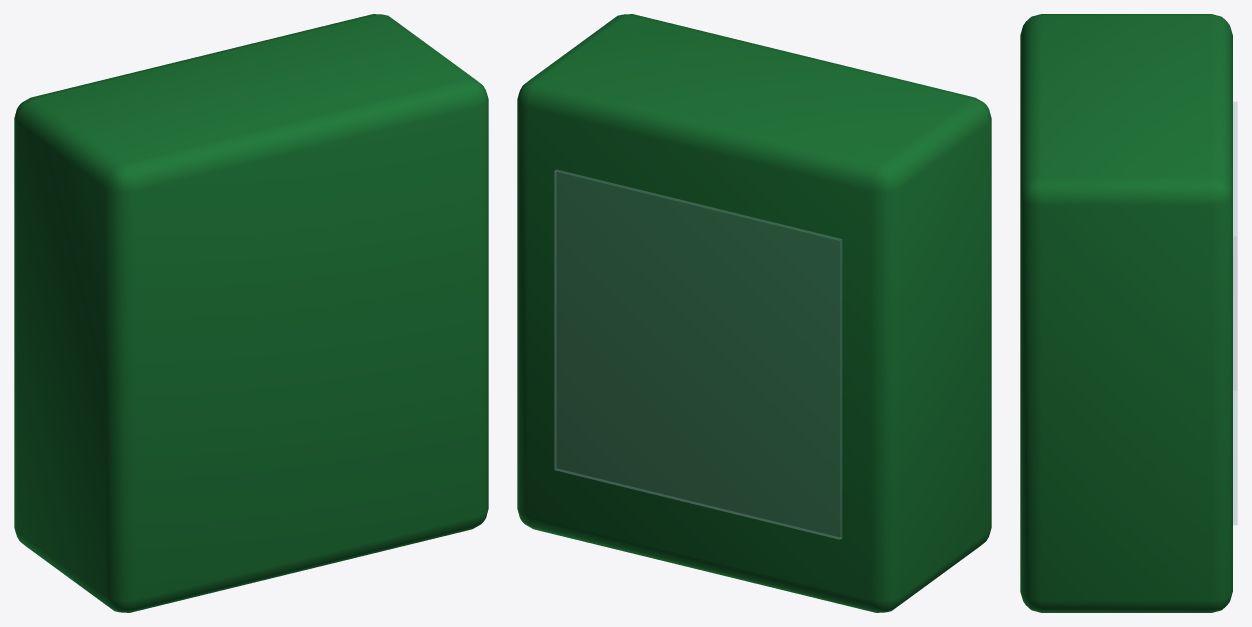
File: hospital.ward.defib_cabinet.glb
3 views of the same model, side by side, from view 1: azimuth 30°, elevation 25°; view 2: azimuth 150°, elevation 25°; view 3: azimuth 270°, elevation 25° (orthographic). The views are drawn at different scales.
Parts seen in each view (by area): view 1: main__plastic_green; view 2: main__plastic_green, main__glass; view 3: main__plastic_green, main__glass.
Boxes of the visible parts, x1,y1,x2,y2 form: main__plastic_green: [14, 14, 488, 612]; main__plastic_green: [517, 14, 991, 612]; main__glass: [554, 170, 841, 539]; main__plastic_green: [1020, 14, 1232, 612]; main__glass: [1233, 102, 1237, 524].
Bounding box in the file's own units: 0.4 × 0.45 × 0.2045.
